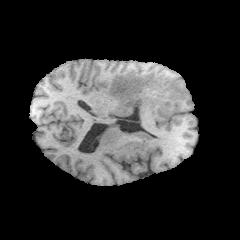glioma: (109, 69, 185, 128)
